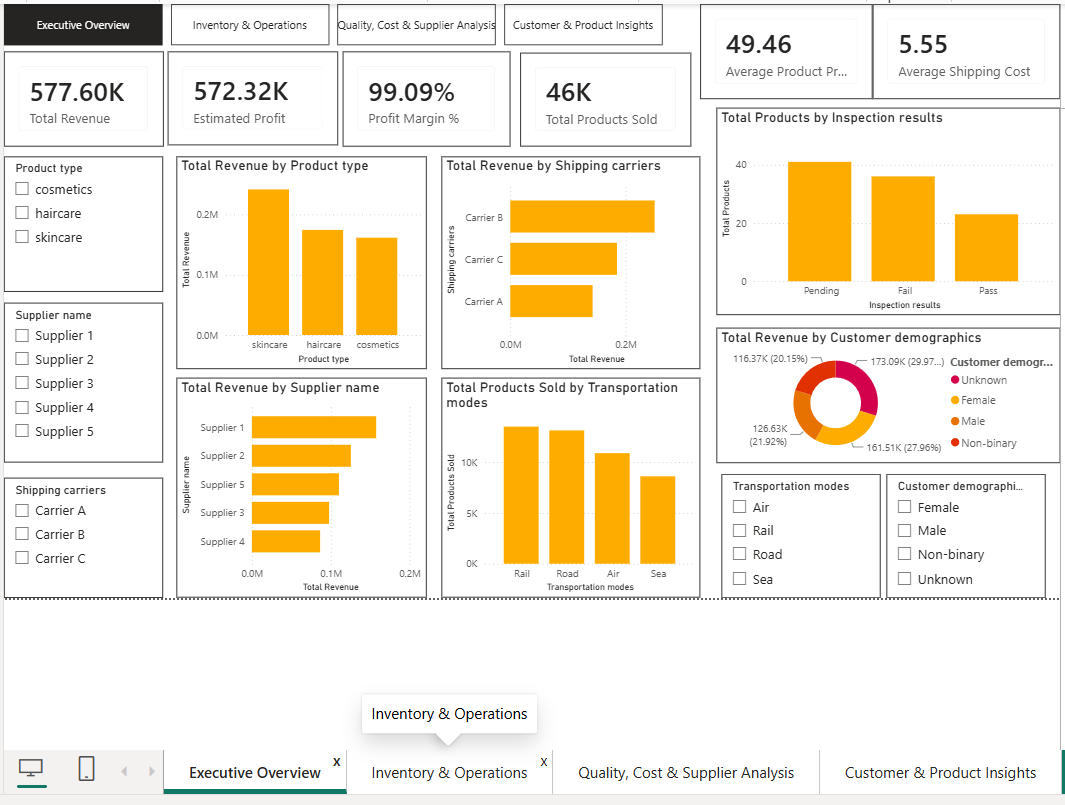

What the dashboard file says about the page in this screenshot:
{"tool":"powerbi","page":{"name":"Executive Overview","canvas":[1280,720],"ordinal":0},"visuals":[{"type":"shape","box":[1007.2,0,273.1,720.4],"z":0},{"type":"cardVisual","fields":{"Data":["Fact_supplychain.Total Revenue"]},"box":[0,86.4,174.3,93.3],"z":1000},{"type":"cardVisual","fields":{"Data":["Fact_supplychain.Estimated Profit"]},"box":[174.3,86.4,172.9,93.3],"z":2000},{"type":"cardVisual","fields":{"Data":["Fact_supplychain.Profit Margin %"]},"box":[347.2,86.4,160.5,93.3],"z":3000},{"type":"cardVisual","fields":{"Data":["Fact_supplychain.Total Products Sold"]},"box":[507.7,86.4,159.2,93.3],"z":4000},{"type":"cardVisual","fields":{"Data":["Fact_supplychain.Average Product Price"]},"box":[666.9,86.4,152.3,91.9],"z":5000},{"type":"cardVisual","fields":{"Data":["Fact_supplychain.Average Shipping Cost"]},"box":[819.2,86.4,182.5,91.9],"z":6000},{"type":"slicer","fields":{"Values":["Fact_supplychain.Product type"]},"box":[1008.3,153.7,271.7,65.9],"z":7000},{"type":"slicer","fields":{"Values":["Fact_supplychain.Supplier name"]},"box":[1006.9,220.9,273.1,65.9],"z":8000},{"type":"slicer","fields":{"Values":["Fact_supplychain.Shipping carriers"]},"box":[1006.9,288.2,273.1,63.1],"z":9000},{"type":"slicer","fields":{"Values":["Fact_supplychain.Transportation modes"]},"box":[1007.2,0,273.1,75.5],"z":10000},{"type":"clusteredColumnChart","fields":{"Category":["Fact_supplychain.Product type"],"Y":["Fact_supplychain.Total Revenue"]},"box":[0,185.2,303.3,256.6],"z":11000},{"type":"donutChart","fields":{"Category":["Fact_supplychain.Customer demographics"],"Y":["Fact_supplychain.Total Revenue"]},"box":[635.3,454.2,366.4,266.2],"z":12000},{"type":"barChart","fields":{"Category":["Fact_supplychain.Shipping carriers"],"Y":["Fact_supplychain.Total Revenue"]},"box":[311.5,186.6,314.2,256.6],"z":13000},{"type":"clusteredColumnChart","fields":{"Category":["Fact_supplychain.Transportation modes"],"Y":["Fact_supplychain.Total Products Sold"]},"box":[311.5,454.2,314.2,266.2],"z":14000},{"type":"clusteredBarChart","fields":{"Category":["Fact_supplychain.Supplier name"],"Y":["Fact_supplychain.Total Revenue"]},"box":[0,454.2,303.3,266.2],"z":15000},{"type":"clusteredColumnChart","fields":{"Category":["Fact_supplychain.Inspection results"],"Y":["Fact_supplychain.Total Products"]},"box":[635.3,189.4,366.4,251.1],"z":16000},{"type":"slicer","fields":{"Values":["Fact_supplychain.Customer demographics"]},"box":[1007.2,76.8,273.1,75.5],"z":17000},{"type":"pageNavigator","box":[1007.2,671,273.1,49.4],"z":18000},{"type":"textbox","box":[1008.6,359.5,271.7,301.9],"z":19000},{"type":"textbox","box":[0,0,1001.7,86.4],"z":19001}]}

Visuals, with their boxes on the page's 1280x720 design canvas (x1, y1, x2, y2). These are canvas units, not pixel positions in the 1065x805 screenshot, which may show the page scaled, cropped or inside an application window:
shape: 1007,0,1280,720
cardVisual - Fact_supplychain.Total Revenue: 0,86,174,180
cardVisual - Fact_supplychain.Estimated Profit: 174,86,347,180
cardVisual - Fact_supplychain.Profit Margin %: 347,86,508,180
cardVisual - Fact_supplychain.Total Products Sold: 508,86,667,180
cardVisual - Fact_supplychain.Average Product Price: 667,86,819,178
cardVisual - Fact_supplychain.Average Shipping Cost: 819,86,1002,178
slicer - Fact_supplychain.Product type: 1008,154,1280,220
slicer - Fact_supplychain.Supplier name: 1007,221,1280,287
slicer - Fact_supplychain.Shipping carriers: 1007,288,1280,351
slicer - Fact_supplychain.Transportation modes: 1007,0,1280,76
clusteredColumnChart - Fact_supplychain.Product type x Fact_supplychain.Total Revenue: 0,185,303,442
donutChart - Fact_supplychain.Customer demographics x Fact_supplychain.Total Revenue: 635,454,1002,720
barChart - Fact_supplychain.Shipping carriers x Fact_supplychain.Total Revenue: 312,187,626,443
clusteredColumnChart - Fact_supplychain.Transportation modes x Fact_supplychain.Total Products Sold: 312,454,626,720
clusteredBarChart - Fact_supplychain.Supplier name x Fact_supplychain.Total Revenue: 0,454,303,720
clusteredColumnChart - Fact_supplychain.Inspection results x Fact_supplychain.Total Products: 635,189,1002,440
slicer - Fact_supplychain.Customer demographics: 1007,77,1280,152
pageNavigator: 1007,671,1280,720
textbox: 1009,360,1280,661
textbox: 0,0,1002,86
